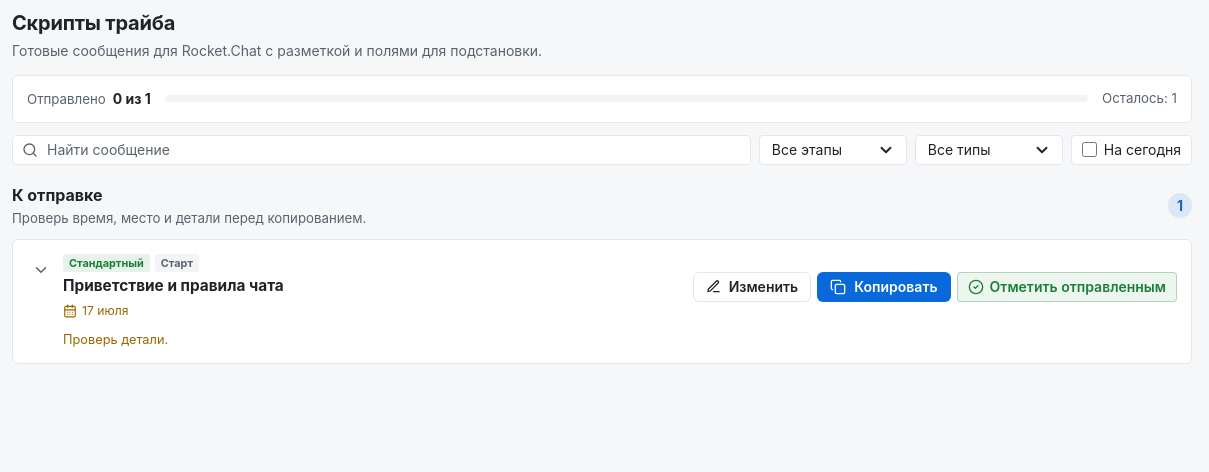
Test: TribeScripts › moves a sent template into the collapsed archive
The width and height of the screenshot is (1209, 472).
Click the button "Отметить отправленным".
click(1067, 287)  # box [957,272,1177,302]
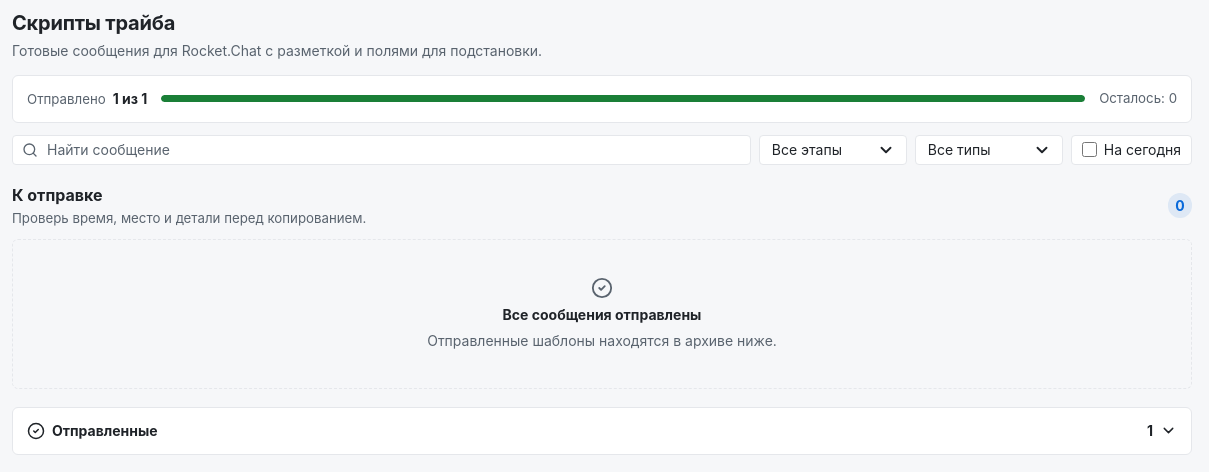
Result: the text "1 из 1" is shown at [113,88,147,109]
Result: the text "Отправленные" is shown at [27,420,158,441]
